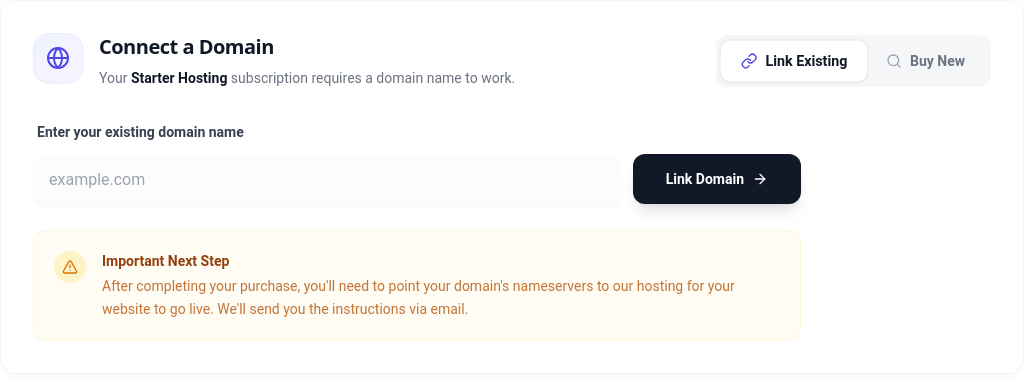
<DomainSetup> › Buy New tab › renders the unavailable panel without Add & Link when the domain is taken
This screenshot has width=1024, height=391.
Click the button "Buy New": (926, 61) top-left (866, 41), bottom-right (985, 81)
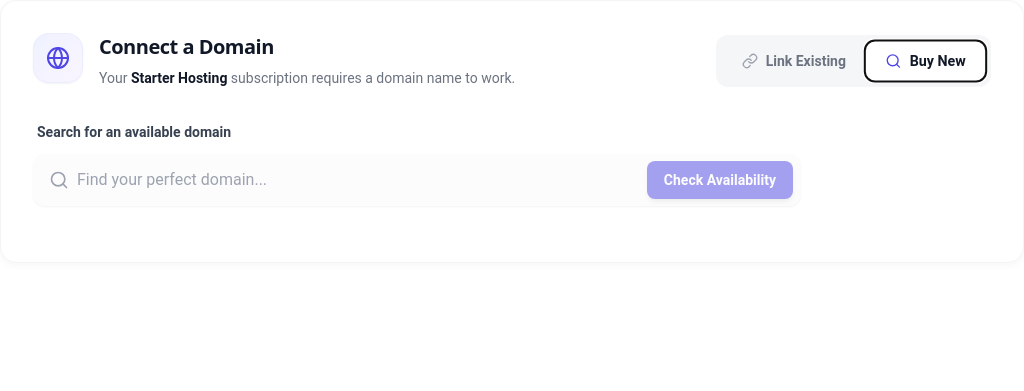
In the field with placeholder "Find your perfect domain...": (417, 180) top-left (33, 154), bottom-right (801, 206), type "taken.com"
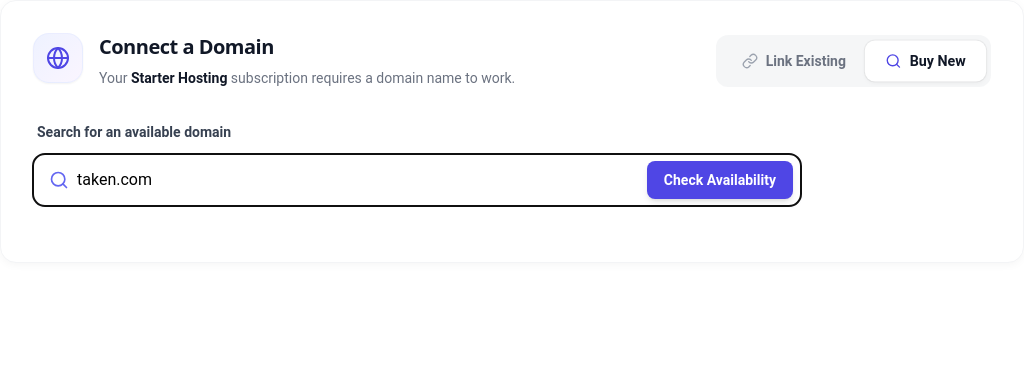
Click the button "Check Availability": (720, 180) top-left (647, 161), bottom-right (793, 199)
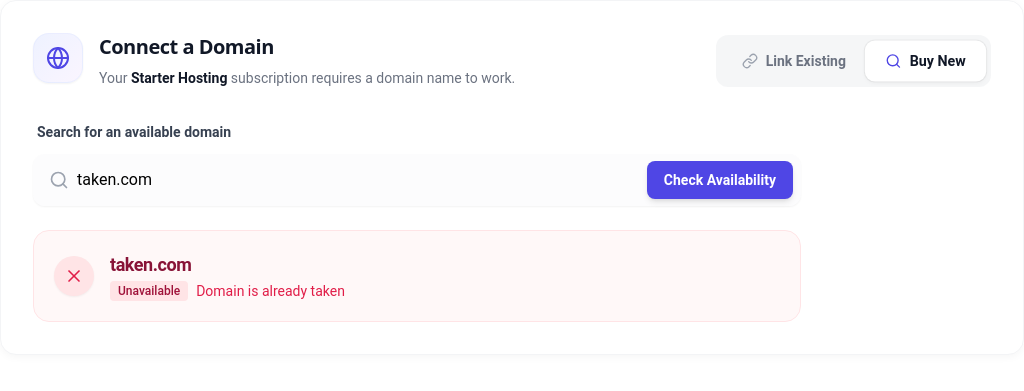
Expected: the text "Unavailable" is shown, top-left (110, 281), bottom-right (188, 301)
